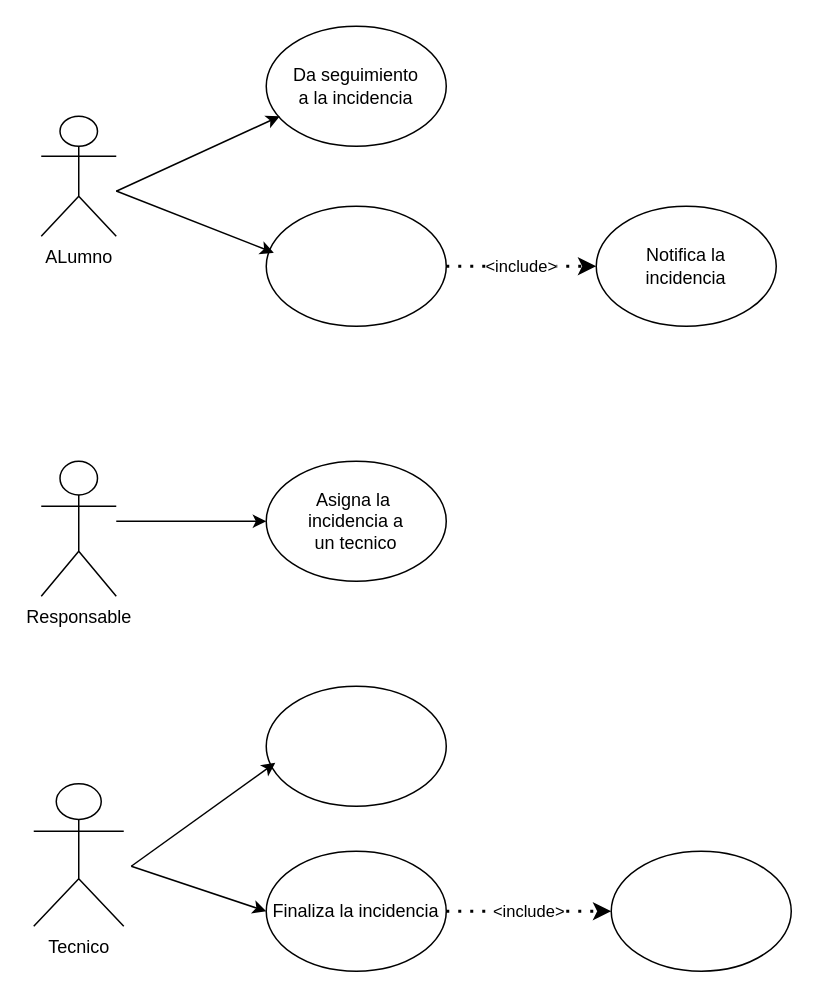
Image size: 818x998. Some labels were removed from this diagram. Each missing label, with the centre of its shape:
"Envia anuncio de que ya fue reparada" belongs at (700,910).
"Gestiona la incidencia" belongs at (355,745).
"Registra una incidencia" belongs at (355,265).
